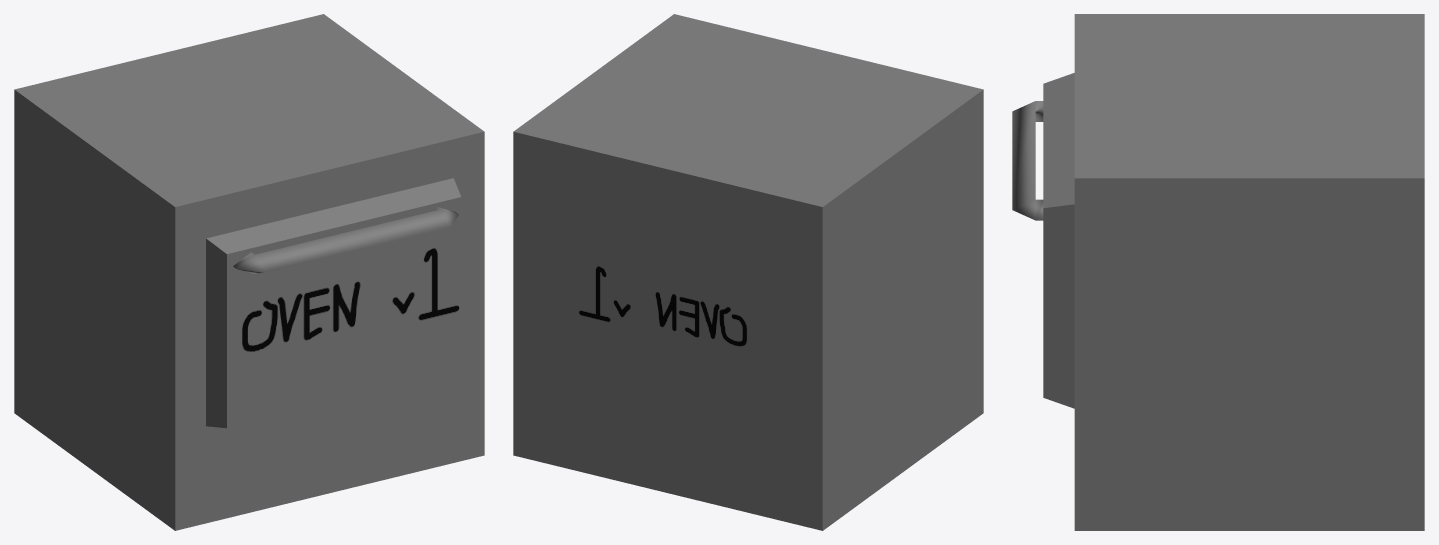
Rendered from furni_oven_0.glb.
3 renders of one model, left to right at view 1: azimuth 30°, elevation 25°; view 2: azimuth 150°, elevation 25°; view 3: azimuth 270°, elevation 25°, orthographic. The views are drawn at different scales.
Parts seen in each view (by area): view 1: oven; view 2: oven; view 3: oven.
Boxes of the visible parts, x1,y1,x2,y2 form: oven: [14, 14, 484, 530]; oven: [513, 14, 983, 530]; oven: [1012, 14, 1424, 530].
Bounding box in the file's own units: 1 × 1 × 1.06.
Materials: 1 (1 with a texture image).
